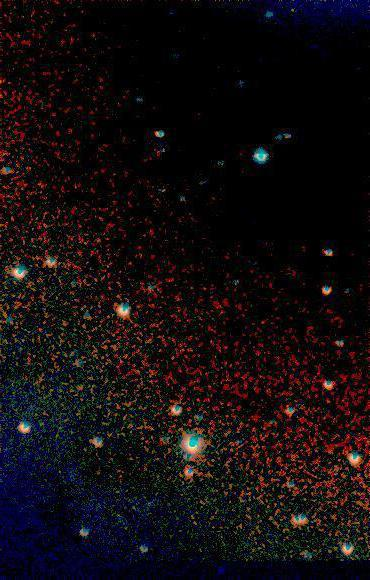star: (278, 0, 308, 22)
